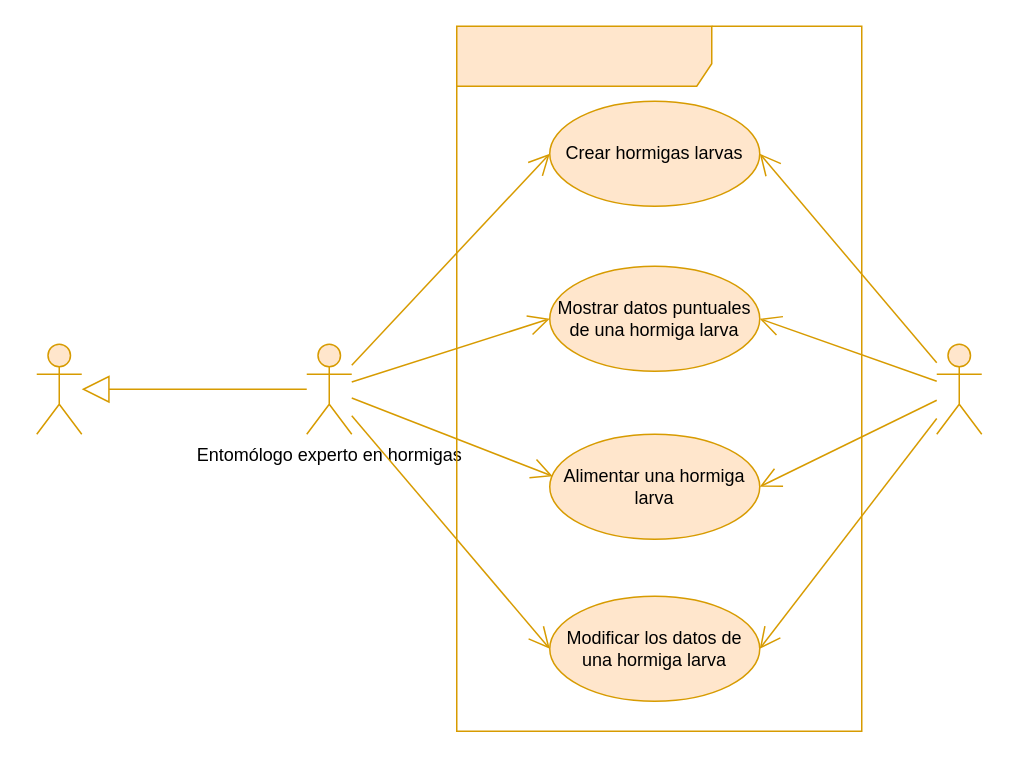
Image size: 1017x758. Some labels were removed from this diagram. The box of each missing label's shape, as (x1, y1, x2, y2) in pixels:
DCU: CJEcuaFauna2K24A: (455, 25, 862, 731)
Persona: (35, 343, 82, 434)
Sistema: (935, 343, 982, 434)
